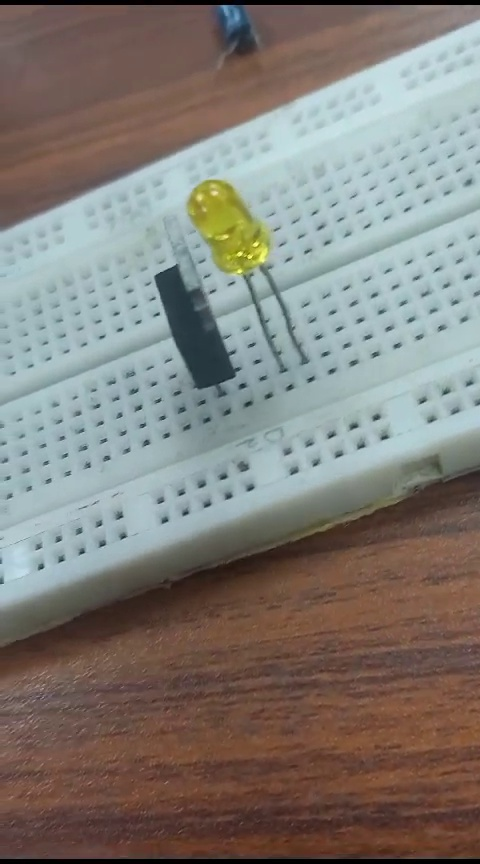LED: (175, 173, 272, 272)
voltage regulator: (134, 223, 232, 403)
